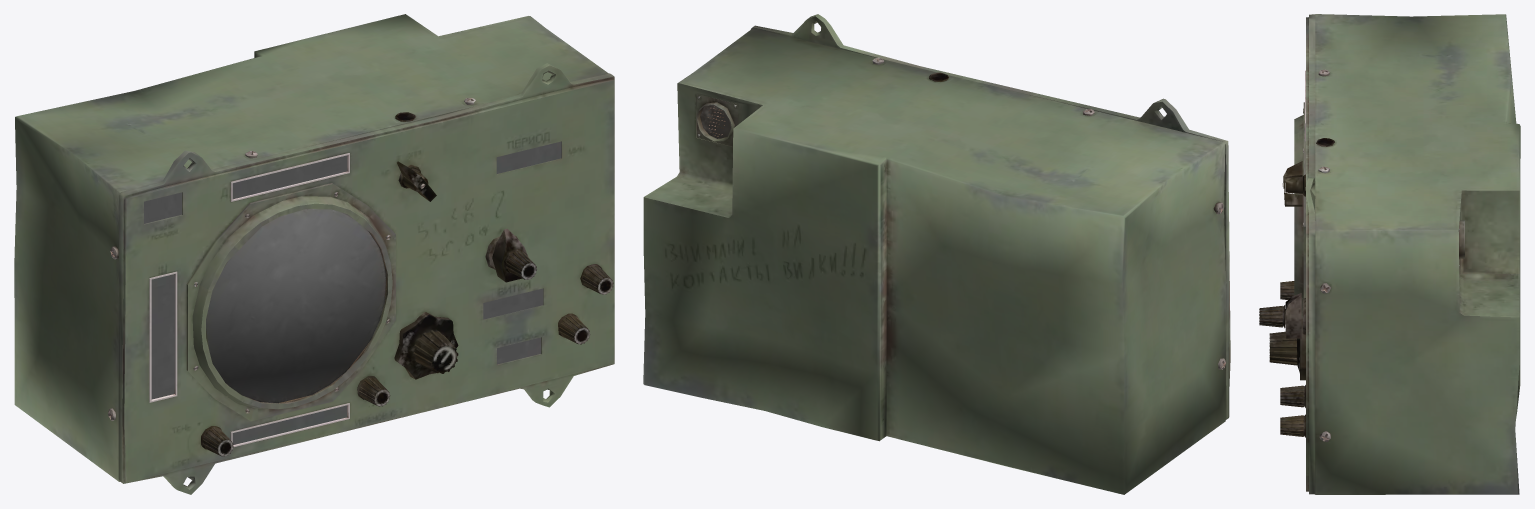
File: vintage_spacecraft_instrument.glb
3 renders of one model, left to right at view 1: azimuth 30°, elevation 25°; view 2: azimuth 150°, elevation 25°; view 3: azimuth 270°, elevation 25°, orthographic. The views are drawn at different scales.
Visible parts, largest first — view 1: vintage_spacecraft_instrument; view 2: vintage_spacecraft_instrument; view 3: vintage_spacecraft_instrument.
Boxes of the visible parts, x1,y1,x2,y2 form: vintage_spacecraft_instrument: [14, 14, 614, 494]; vintage_spacecraft_instrument: [643, 14, 1230, 494]; vintage_spacecraft_instrument: [1259, 14, 1520, 494].
Size of the model in its own units: 0.4103 by 0.2693 by 0.2044.
Materials: 2 (2 with a texture image).
